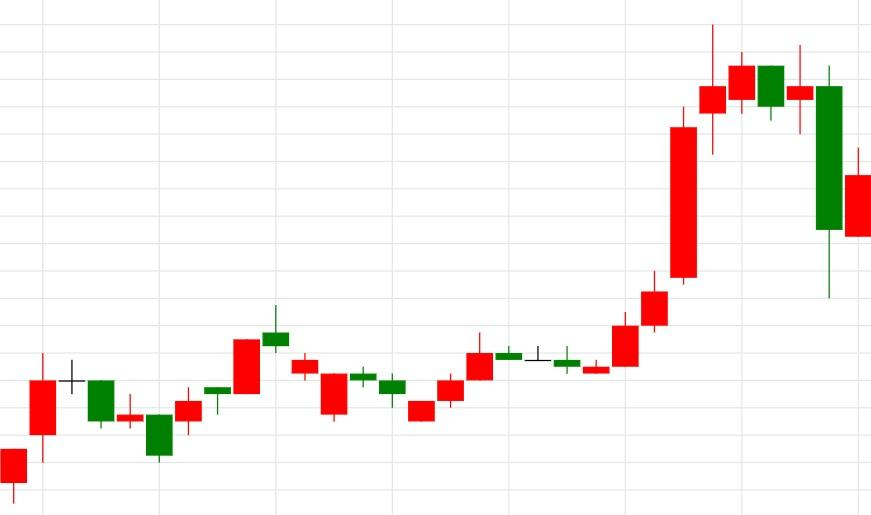evening_star_fall: (0, 352, 115, 502)
three_black_crows_fall: (349, 332, 494, 422)
